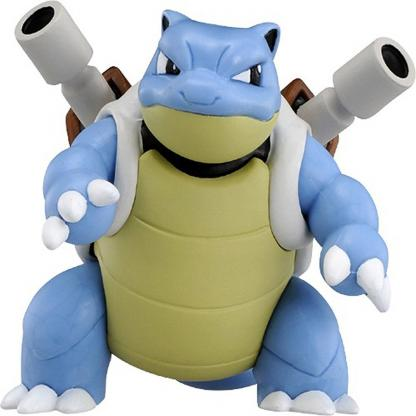Blastoise: (8, 1, 416, 416)
